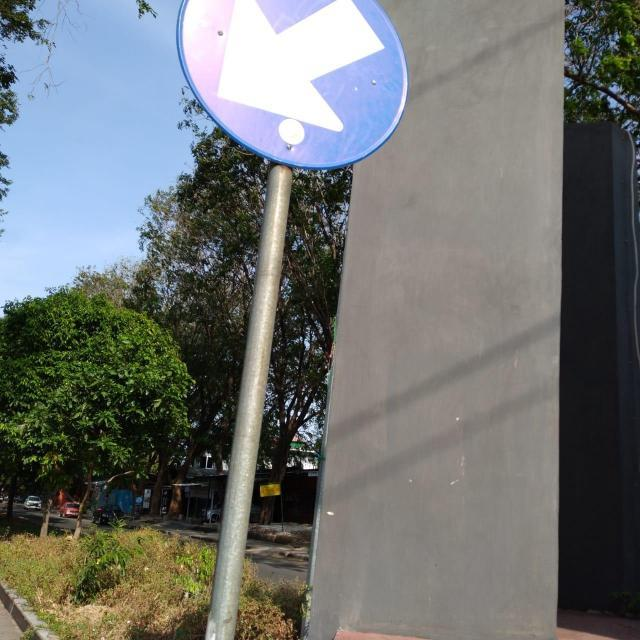traffic sign: (180, 2, 404, 166)
